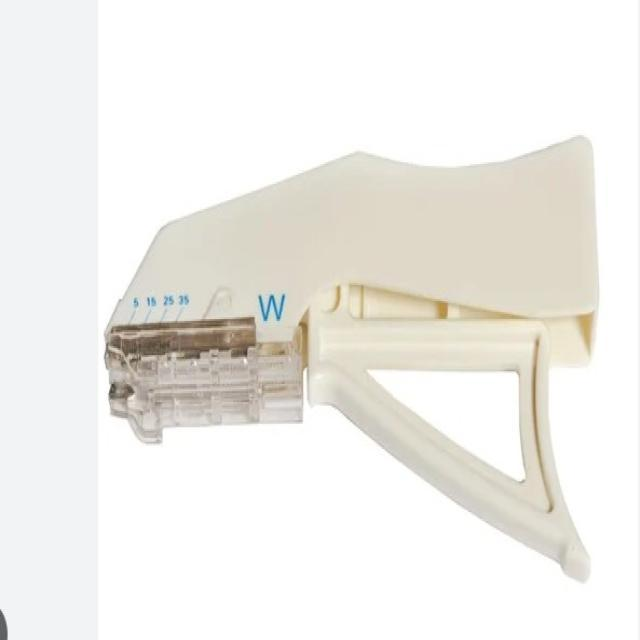Senn Retractor: (101, 128, 603, 586)
